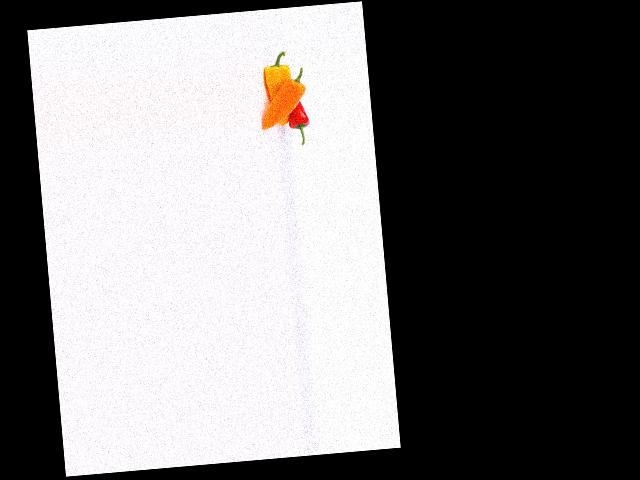bell_pepper: (256, 48, 296, 108)
